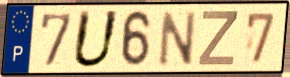6: (120, 8, 154, 70)
7: (38, 11, 74, 68), (245, 11, 276, 66)
N: (157, 9, 198, 69)
U: (70, 8, 122, 70)
Z: (196, 9, 240, 67)
